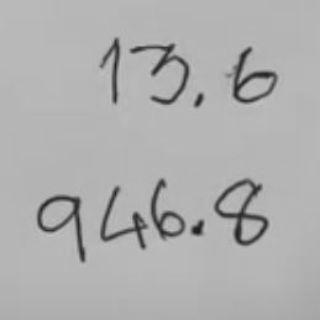.: (186, 215, 209, 241), (188, 88, 208, 111)
1: (99, 37, 121, 106)
3: (130, 42, 190, 106)
4: (99, 184, 149, 251)
6: (231, 44, 281, 105), (150, 177, 187, 241)
8: (213, 177, 269, 248)
9: (35, 193, 87, 265)
